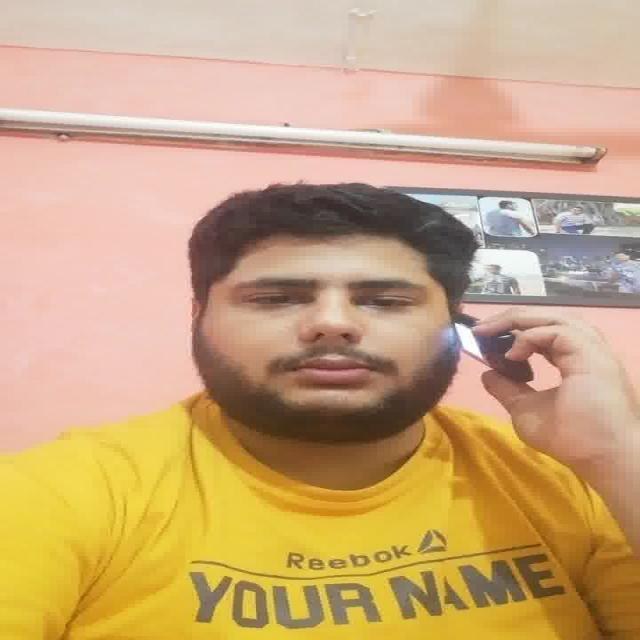phone: (450, 308, 534, 384)
